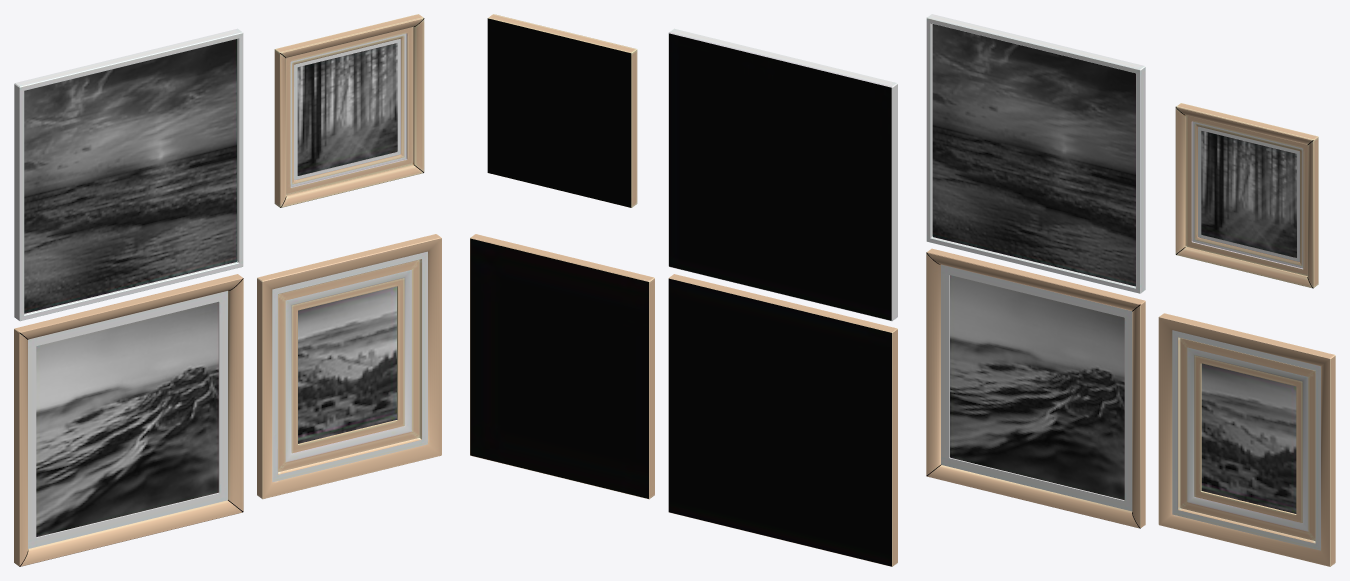
Rendered from quadri-1.glb.
3 views of the same model, side by side, from view 1: azimuth 30°, elevation 25°; view 2: azimuth 150°, elevation 25°; view 3: azimuth 330°, elevation 25° (orthographic). The views are drawn at different scales.
Parts seen in each view (by area): view 1: mare giu, mare su, colline, bosco; view 2: mare giu, mare su, colline, bosco; view 3: mare giu, mare su, colline, bosco.
Part boxes in pixels (x1,y1,x2,y2): mare giu: (14, 274, 243, 566); mare su: (14, 28, 243, 321); colline: (257, 234, 441, 499); bosco: (274, 14, 424, 207); mare giu: (668, 274, 897, 566); mare su: (668, 28, 897, 321); colline: (470, 234, 654, 499); bosco: (487, 14, 637, 207); mare giu: (926, 248, 1145, 528); mare su: (926, 14, 1145, 293); colline: (1158, 313, 1335, 566); bosco: (1175, 103, 1318, 288).
Size of the model in its own units: 0.6882 by 0.7468 by 0.0163.
2 materials, 2 textured.
